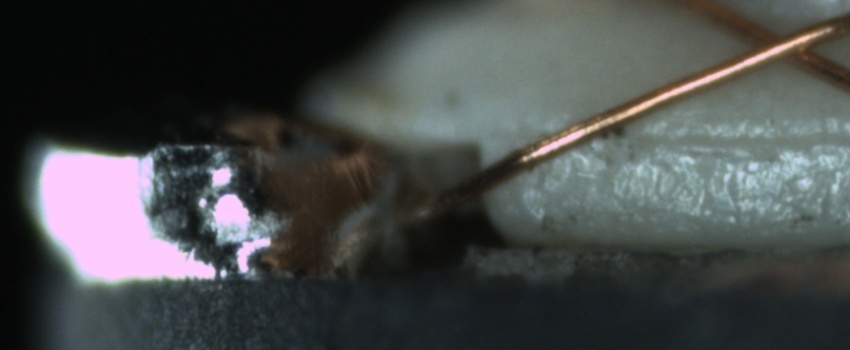CL: (717, 11, 842, 75)
DL: (614, 110, 848, 168)
